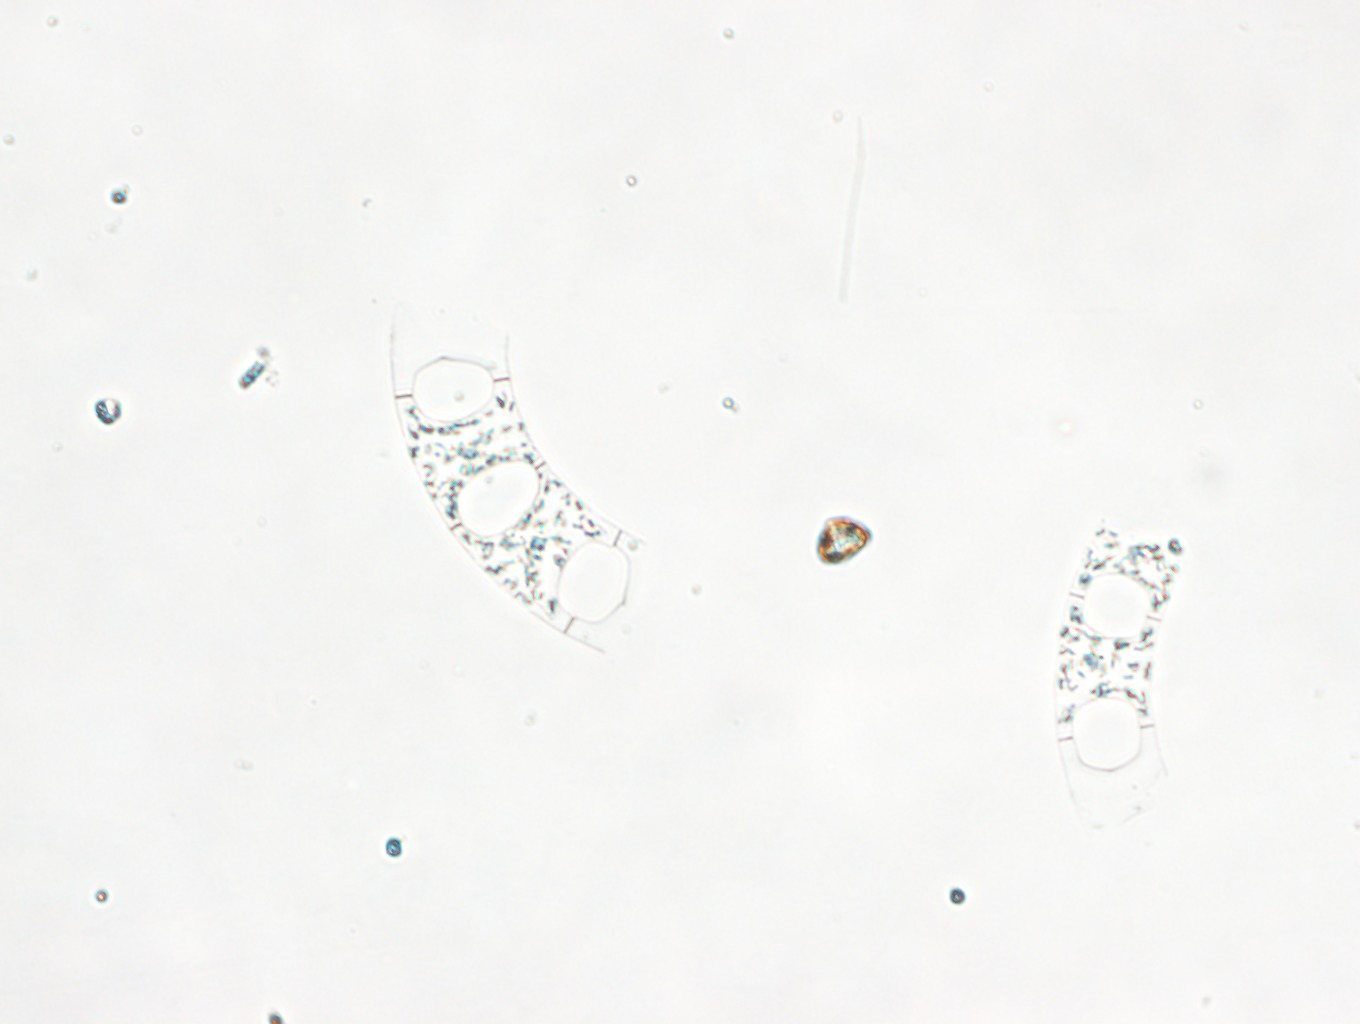eucampia: (390, 325, 657, 652), (1056, 523, 1186, 829)
